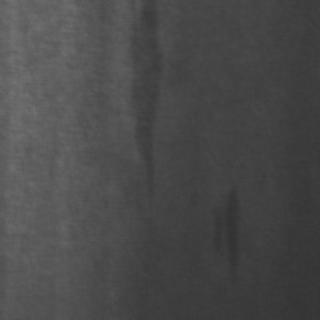inclusion: (119, 0, 171, 204), (202, 174, 250, 286)
